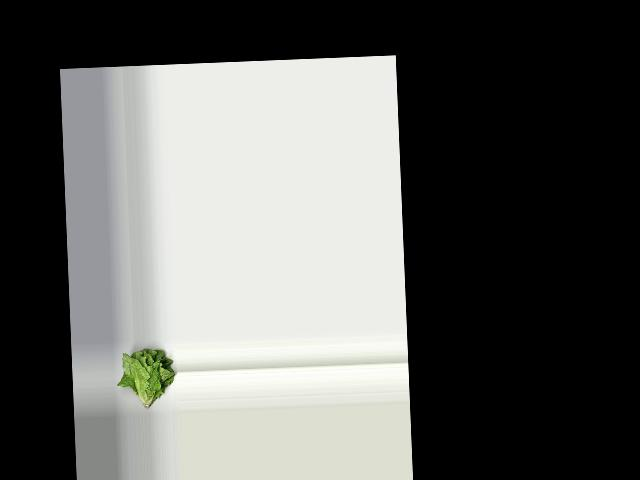lettuce: (121, 344, 175, 411)
